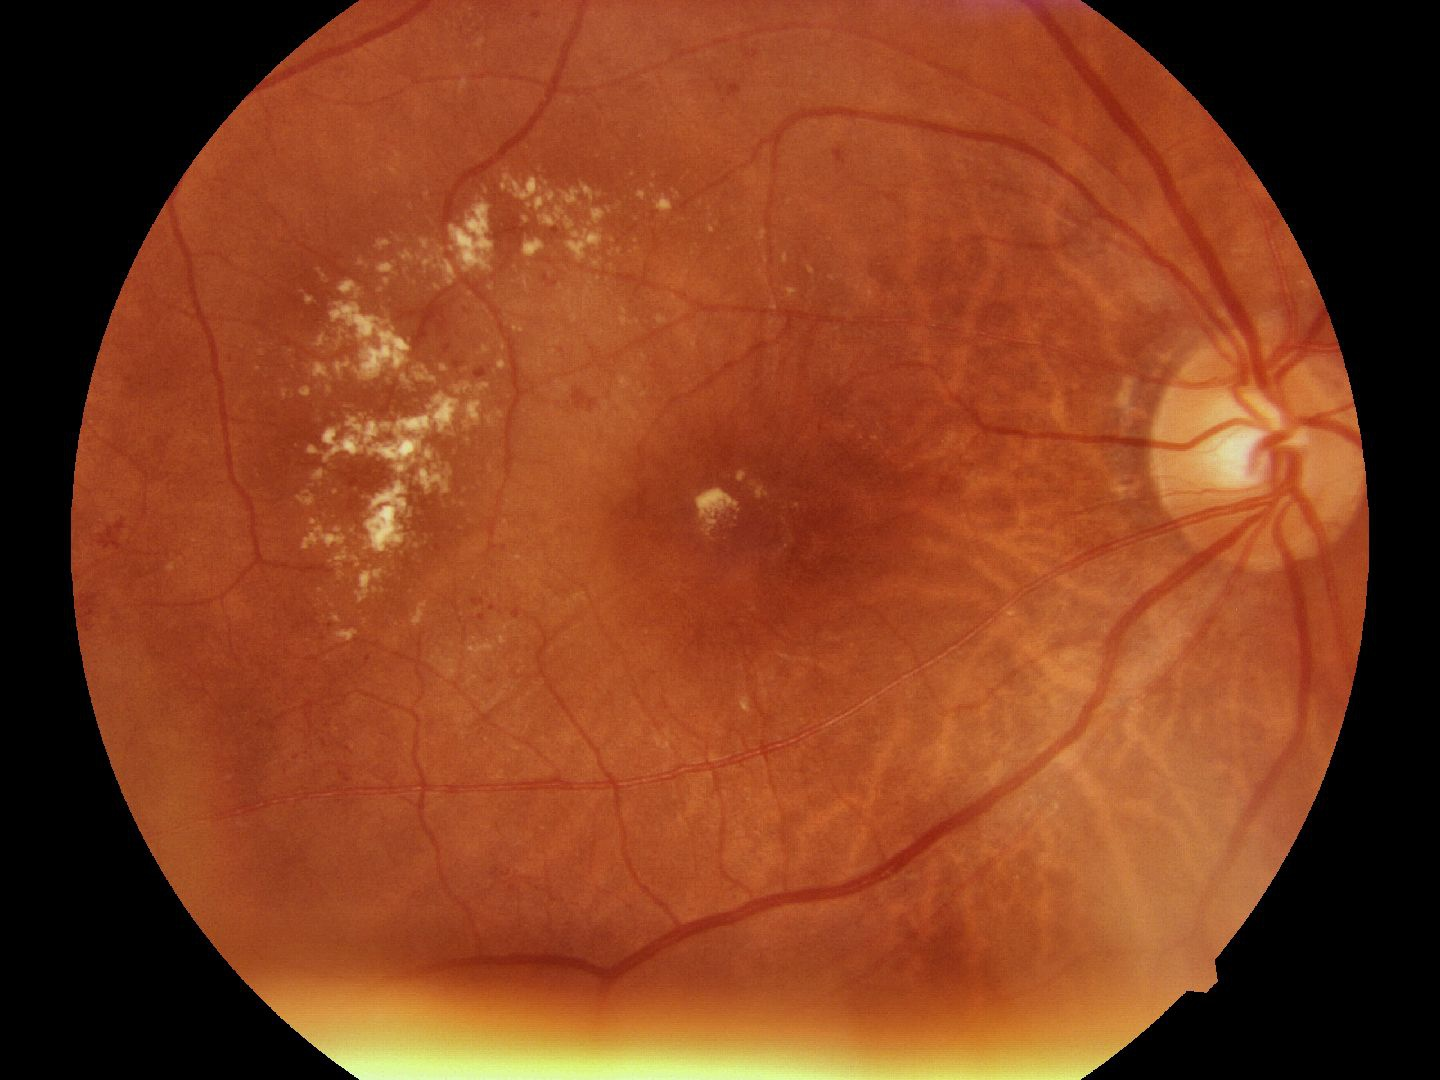Exudates: (305, 262, 477, 611), (451, 163, 639, 265), (698, 476, 749, 547)
Optic-Disc: (1158, 295, 1367, 579)
Venules: (513, 849, 964, 967)
